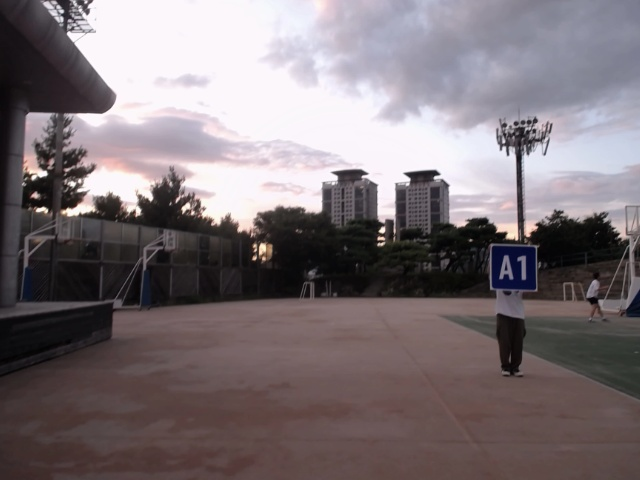delivery_a1: (490, 245, 538, 291)
